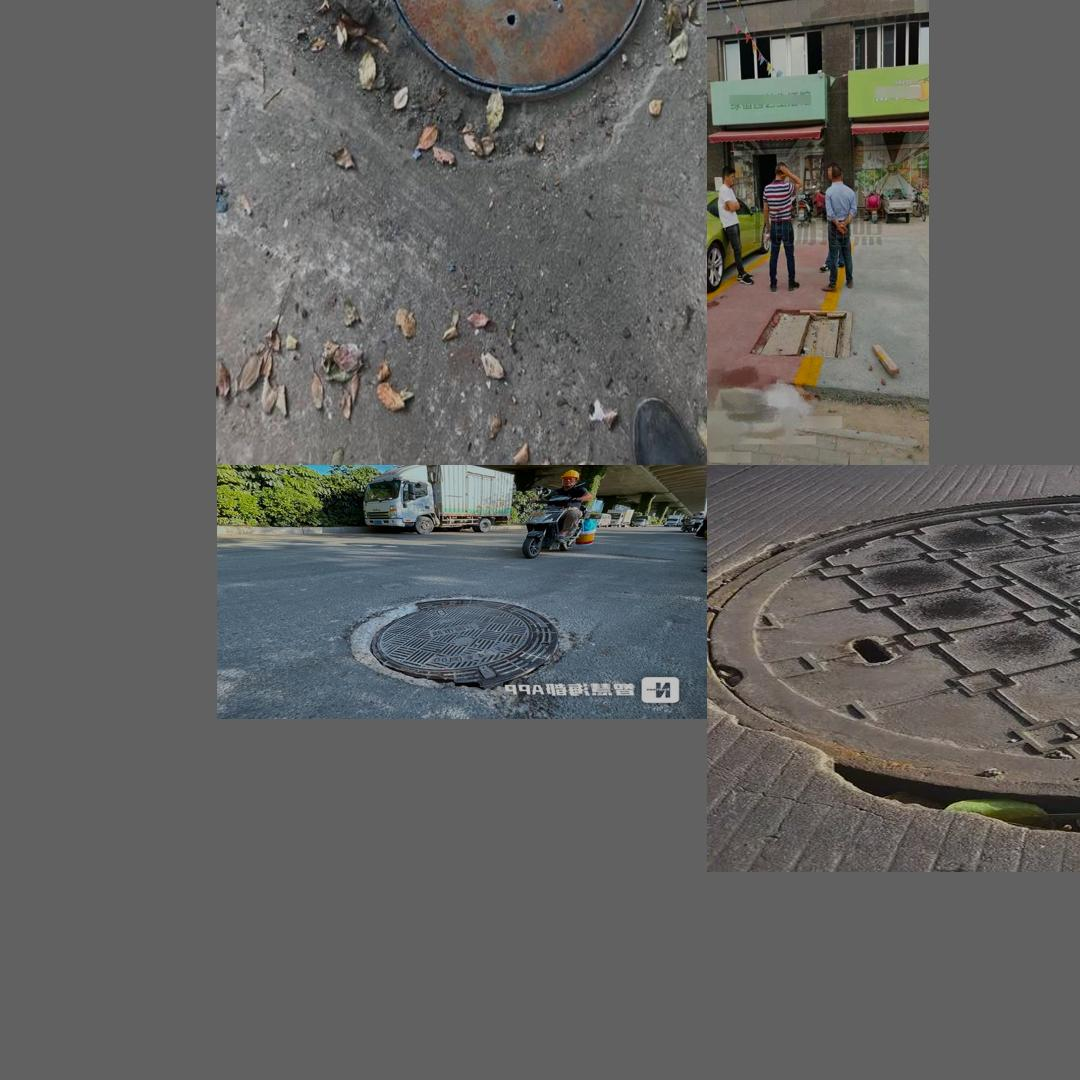circle: (731, 491, 1080, 854), (274, 0, 693, 195), (314, 584, 599, 699), (754, 309, 852, 360)
